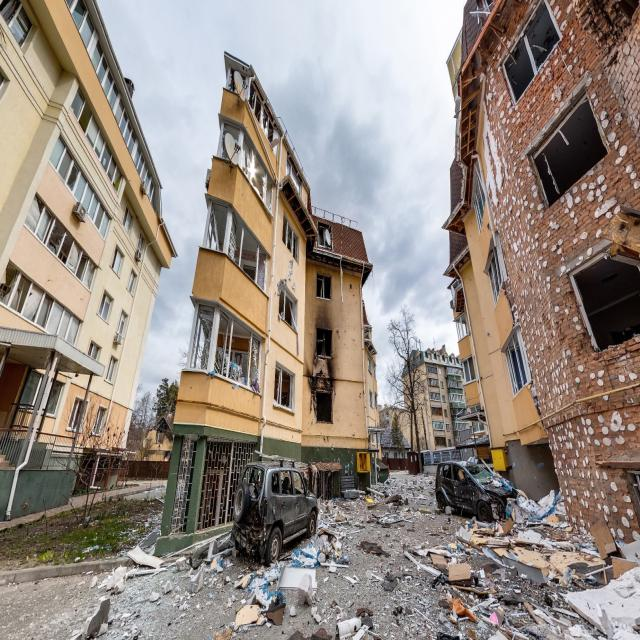broken_window: (186, 302, 263, 392), (202, 201, 268, 294), (216, 120, 274, 217), (226, 66, 280, 157), (473, 163, 486, 235), (274, 363, 293, 411), (278, 286, 296, 330), (282, 215, 298, 264), (318, 223, 332, 250), (317, 274, 331, 300)
building: (155, 51, 389, 556), (441, 0, 640, 561)
damage: (446, 0, 640, 563), (281, 180, 373, 288), (307, 301, 335, 423), (309, 388, 365, 443), (455, 250, 471, 275), (336, 327, 355, 345), (456, 287, 465, 312), (447, 267, 461, 280), (277, 278, 287, 296), (287, 258, 294, 282), (291, 282, 296, 292), (349, 283, 352, 290), (487, 223, 490, 230), (487, 332, 490, 339)
other: (83, 0, 467, 232), (317, 448, 640, 640), (237, 500, 640, 640), (8, 553, 640, 640), (362, 264, 473, 469), (362, 63, 457, 265), (230, 459, 317, 553), (388, 450, 456, 488), (378, 478, 389, 488)
